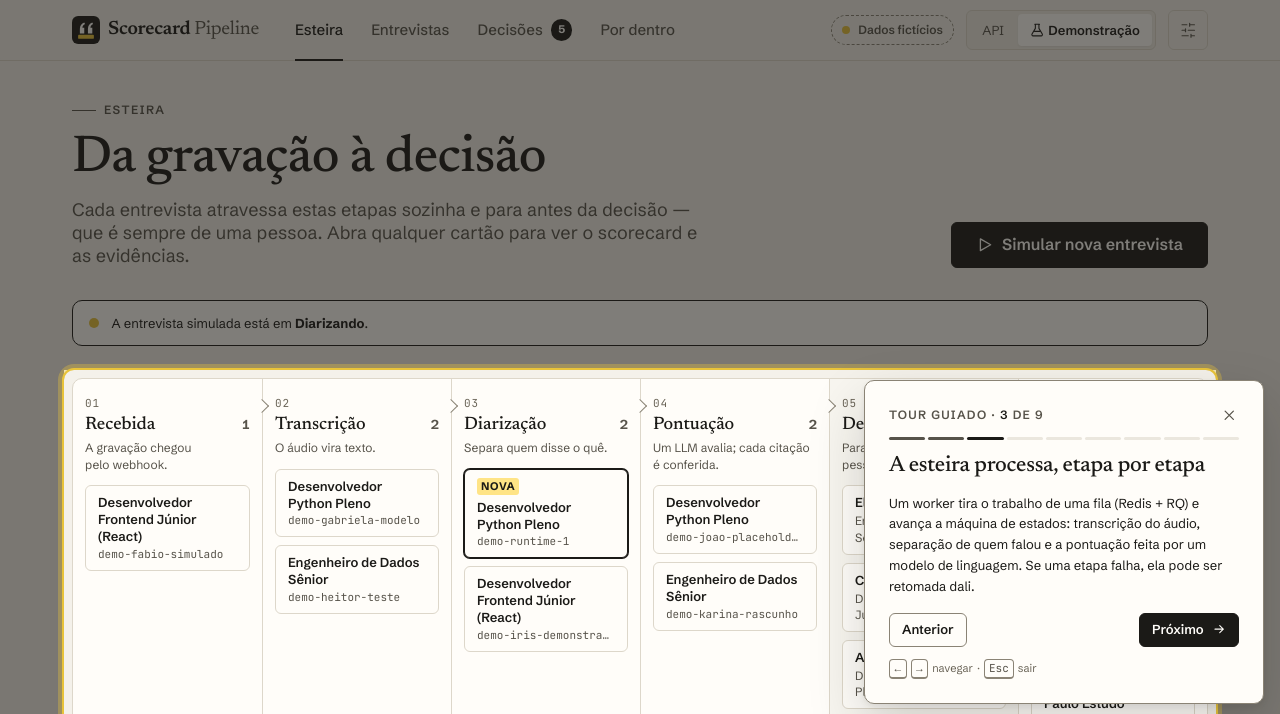
Test: demo mode isolation › leaves the tour with Esc and offers to resume it where it stopped
Expected: the dialog "A esteira processa, etapa por etapa" is shown, [864, 380, 1264, 704]
Press Escape
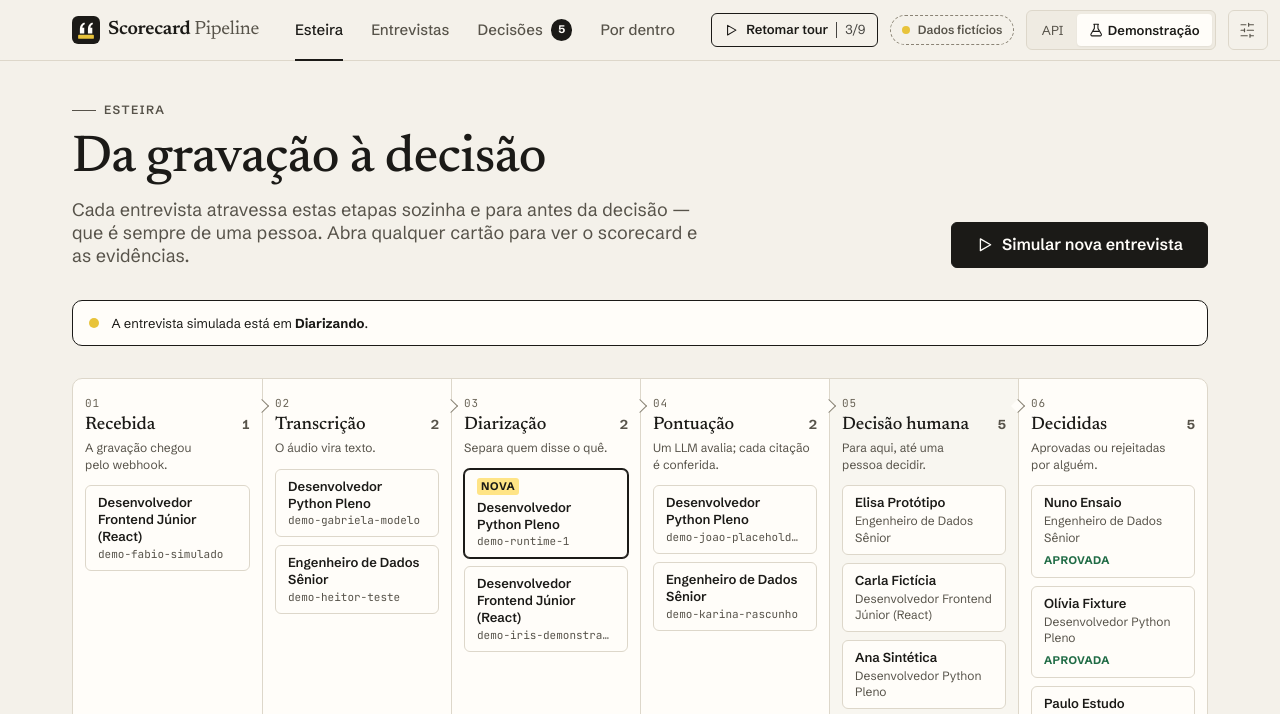
Expected: the dialog is gone
Click the button "Retomar tour 3/9": (795, 30) [711, 13, 878, 47]
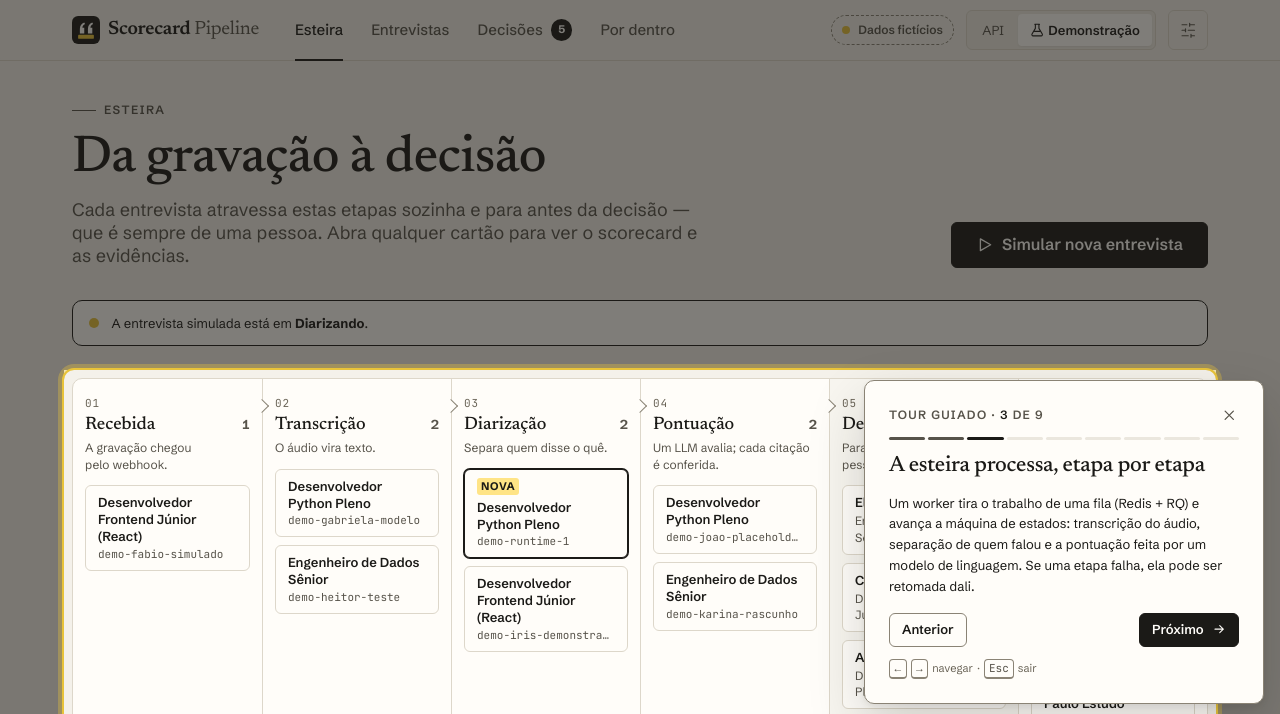
Expected: the dialog "A esteira processa, etapa por etapa" is shown, [864, 380, 1264, 704]
